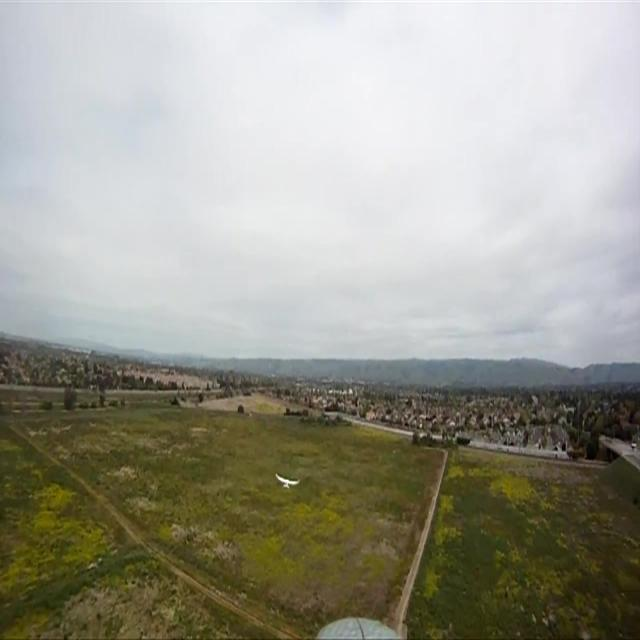iha: (274, 472, 301, 489)
